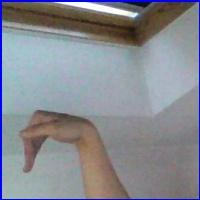del: (17, 105, 100, 177)
